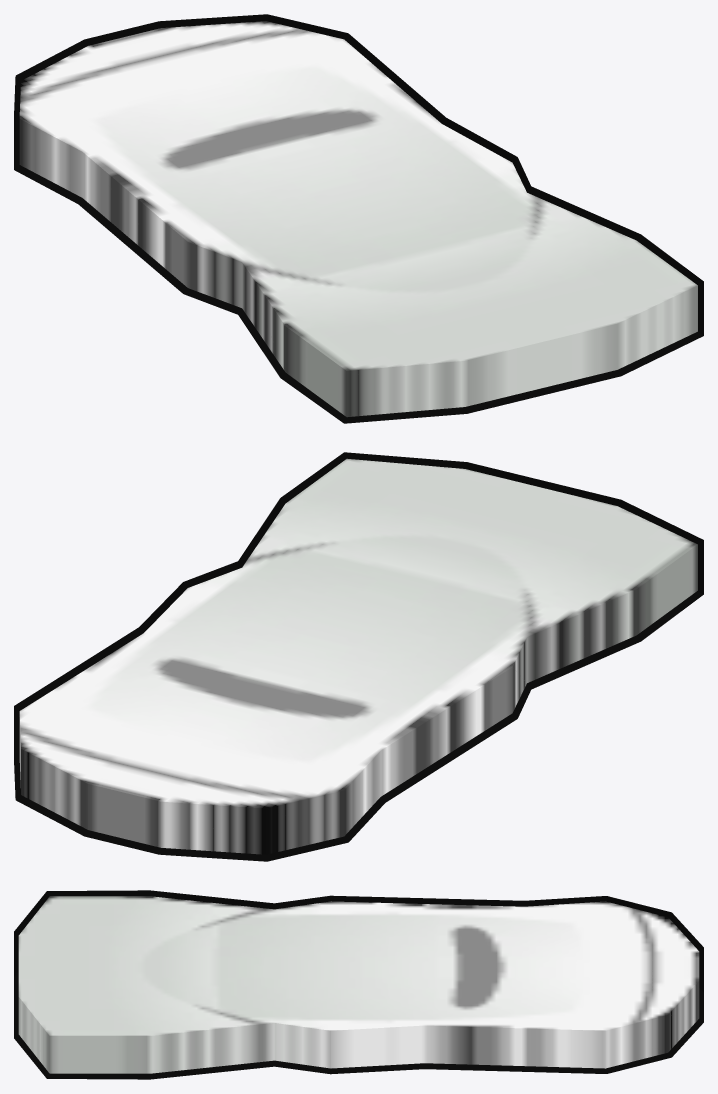
The model's file is Item_Apparel_Burka_Things_Pawn_Humanlike_Apparel_Burka_Burka_Female.glb.
3 views of the same model, one above another, from view 1: azimuth 30°, elevation 25°; view 2: azimuth 150°, elevation 25°; view 3: azimuth 270°, elevation 25° (orthographic). The views are drawn at different scales.
Parts seen in each view (by area): view 1: Body, Outline; view 2: Body, Outline; view 3: Body, Outline.
Part boxes in pixels (x1,y1,x2,y2): Body: [19, 21, 697, 417]; Outline: [14, 14, 703, 423]; Body: [19, 458, 697, 854]; Outline: [14, 452, 703, 861]; Body: [18, 896, 699, 1073]; Outline: [14, 890, 703, 1079].
Bounding box in the file's own units: 0.4254 × 0.0642 × 0.863.
2 materials, 1 textured.
